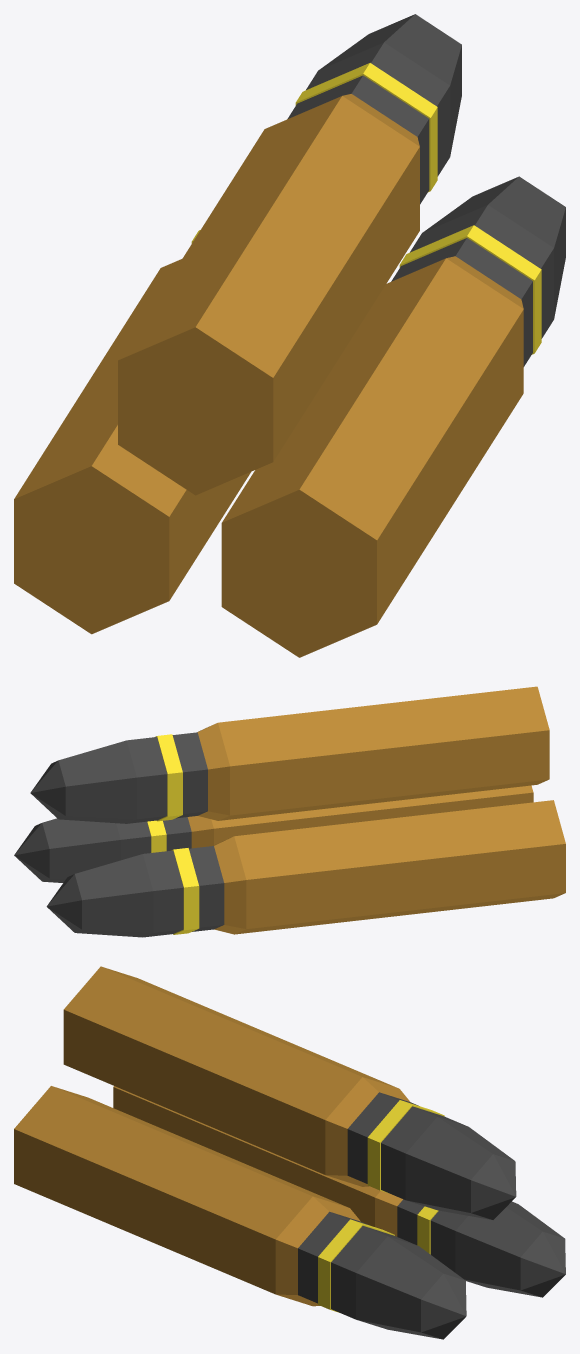
Rendered from ce_ammo_heavy_heat_b.obj.
The picture shows the model from 3 angles, top to bottom: view 1: azimuth 30°, elevation 25°; view 2: azimuth 150°, elevation 25°; view 3: azimuth 270°, elevation 25°; orthographic projection. The views are drawn at different scales.
Parts seen in each view (by area): view 1: ce_ammo_heavy_heat_b_14, ce_ammo_heavy_heat_b_7, ce_ammo_heavy_heat_b_0, ce_ammo_heavy_heat_b_19, ce_ammo_heavy_heat_b_12, ce_ammo_heavy_heat_b_18, ce_ammo_heavy_heat_b_11, ce_ammo_heavy_heat_b_16, ce_ammo_heavy_heat_b_9, ce_ammo_heavy_heat_b_10, ce_ammo_heavy_heat_b_17; view 2: ce_ammo_heavy_heat_b_14, ce_ammo_heavy_heat_b_0, ce_ammo_heavy_heat_b_7, ce_ammo_heavy_heat_b_5, ce_ammo_heavy_heat_b_19, ce_ammo_heavy_heat_b_12, ce_ammo_heavy_heat_b_18, ce_ammo_heavy_heat_b_4, ce_ammo_heavy_heat_b_1, ce_ammo_heavy_heat_b_2, ce_ammo_heavy_heat_b_15, ce_ammo_heavy_heat_b_16 (+9 smaller); view 3: ce_ammo_heavy_heat_b_14, ce_ammo_heavy_heat_b_7, ce_ammo_heavy_heat_b_0, ce_ammo_heavy_heat_b_19, ce_ammo_heavy_heat_b_12, ce_ammo_heavy_heat_b_5, ce_ammo_heavy_heat_b_8, ce_ammo_heavy_heat_b_15, ce_ammo_heavy_heat_b_18, ce_ammo_heavy_heat_b_11, ce_ammo_heavy_heat_b_6, ce_ammo_heavy_heat_b_13 (+9 smaller).
Boxes of the visible parts, left/top/right/bottom form: ce_ammo_heavy_heat_b_14: left=118, top=96, right=419, bottom=495; ce_ammo_heavy_heat_b_7: left=221, top=258, right=523, bottom=657; ce_ammo_heavy_heat_b_0: left=14, top=259, right=250, bottom=634; ce_ammo_heavy_heat_b_19: left=318, top=14, right=461, bottom=155; ce_ammo_heavy_heat_b_12: left=422, top=176, right=565, bottom=318; ce_ammo_heavy_heat_b_18: left=306, top=42, right=450, bottom=176; ce_ammo_heavy_heat_b_11: left=410, top=205, right=553, bottom=338; ce_ammo_heavy_heat_b_16: left=287, top=75, right=429, bottom=204; ce_ammo_heavy_heat_b_9: left=391, top=238, right=532, bottom=366; ce_ammo_heavy_heat_b_10: left=399, top=225, right=541, bottom=354; ce_ammo_heavy_heat_b_17: left=295, top=63, right=437, bottom=192; ce_ammo_heavy_heat_b_14: left=218, top=686, right=549, bottom=820; ce_ammo_heavy_heat_b_0: left=234, top=800, right=565, bottom=934; ce_ammo_heavy_heat_b_7: left=211, top=785, right=533, bottom=845; ce_ammo_heavy_heat_b_5: left=75, top=854, right=153, bottom=937; ce_ammo_heavy_heat_b_19: left=58, top=740, right=136, bottom=823; ce_ammo_heavy_heat_b_12: left=42, top=818, right=120, bottom=882; ce_ammo_heavy_heat_b_18: left=126, top=737, right=167, bottom=823; ce_ammo_heavy_heat_b_4: left=143, top=850, right=183, bottom=937; ce_ammo_heavy_heat_b_1: left=213, top=836, right=246, bottom=934; ce_ammo_heavy_heat_b_2: left=189, top=846, right=224, bottom=931; ce_ammo_heavy_heat_b_15: left=197, top=723, right=229, bottom=820; ce_ammo_heavy_heat_b_16: left=172, top=732, right=207, bottom=818; ce_ammo_heavy_heat_b_14: left=63, top=966, right=398, bottom=1174; ce_ammo_heavy_heat_b_7: left=14, top=1086, right=347, bottom=1294; ce_ammo_heavy_heat_b_0: left=113, top=1086, right=380, bottom=1226; ce_ammo_heavy_heat_b_19: left=405, top=1117, right=514, bottom=1219; ce_ammo_heavy_heat_b_12: left=356, top=1236, right=465, bottom=1339; ce_ammo_heavy_heat_b_5: left=455, top=1202, right=564, bottom=1297; ce_ammo_heavy_heat_b_8: left=275, top=1196, right=360, bottom=1306; ce_ammo_heavy_heat_b_15: left=325, top=1077, right=409, bottom=1186; ce_ammo_heavy_heat_b_18: left=381, top=1106, right=467, bottom=1199; ce_ammo_heavy_heat_b_11: left=331, top=1226, right=416, bottom=1319; ce_ammo_heavy_heat_b_6: left=520, top=1231, right=565, bottom=1297; ce_ammo_heavy_heat_b_13: left=421, top=1273, right=466, bottom=1339.
Bounding box in the file's own units: 0.8643 × 0.36 × 0.8643.
